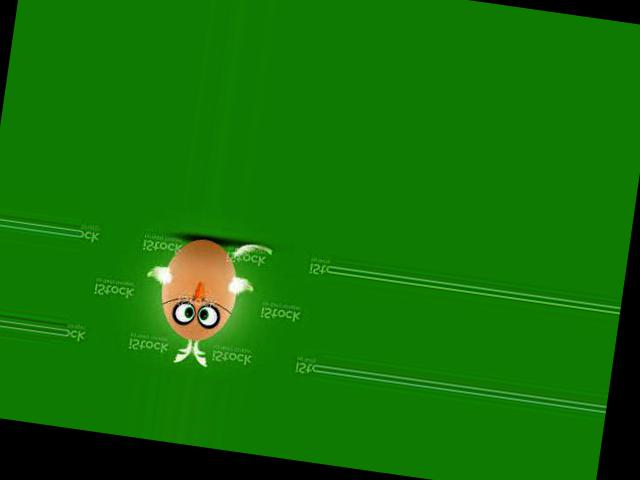egg: (156, 233, 244, 345)
